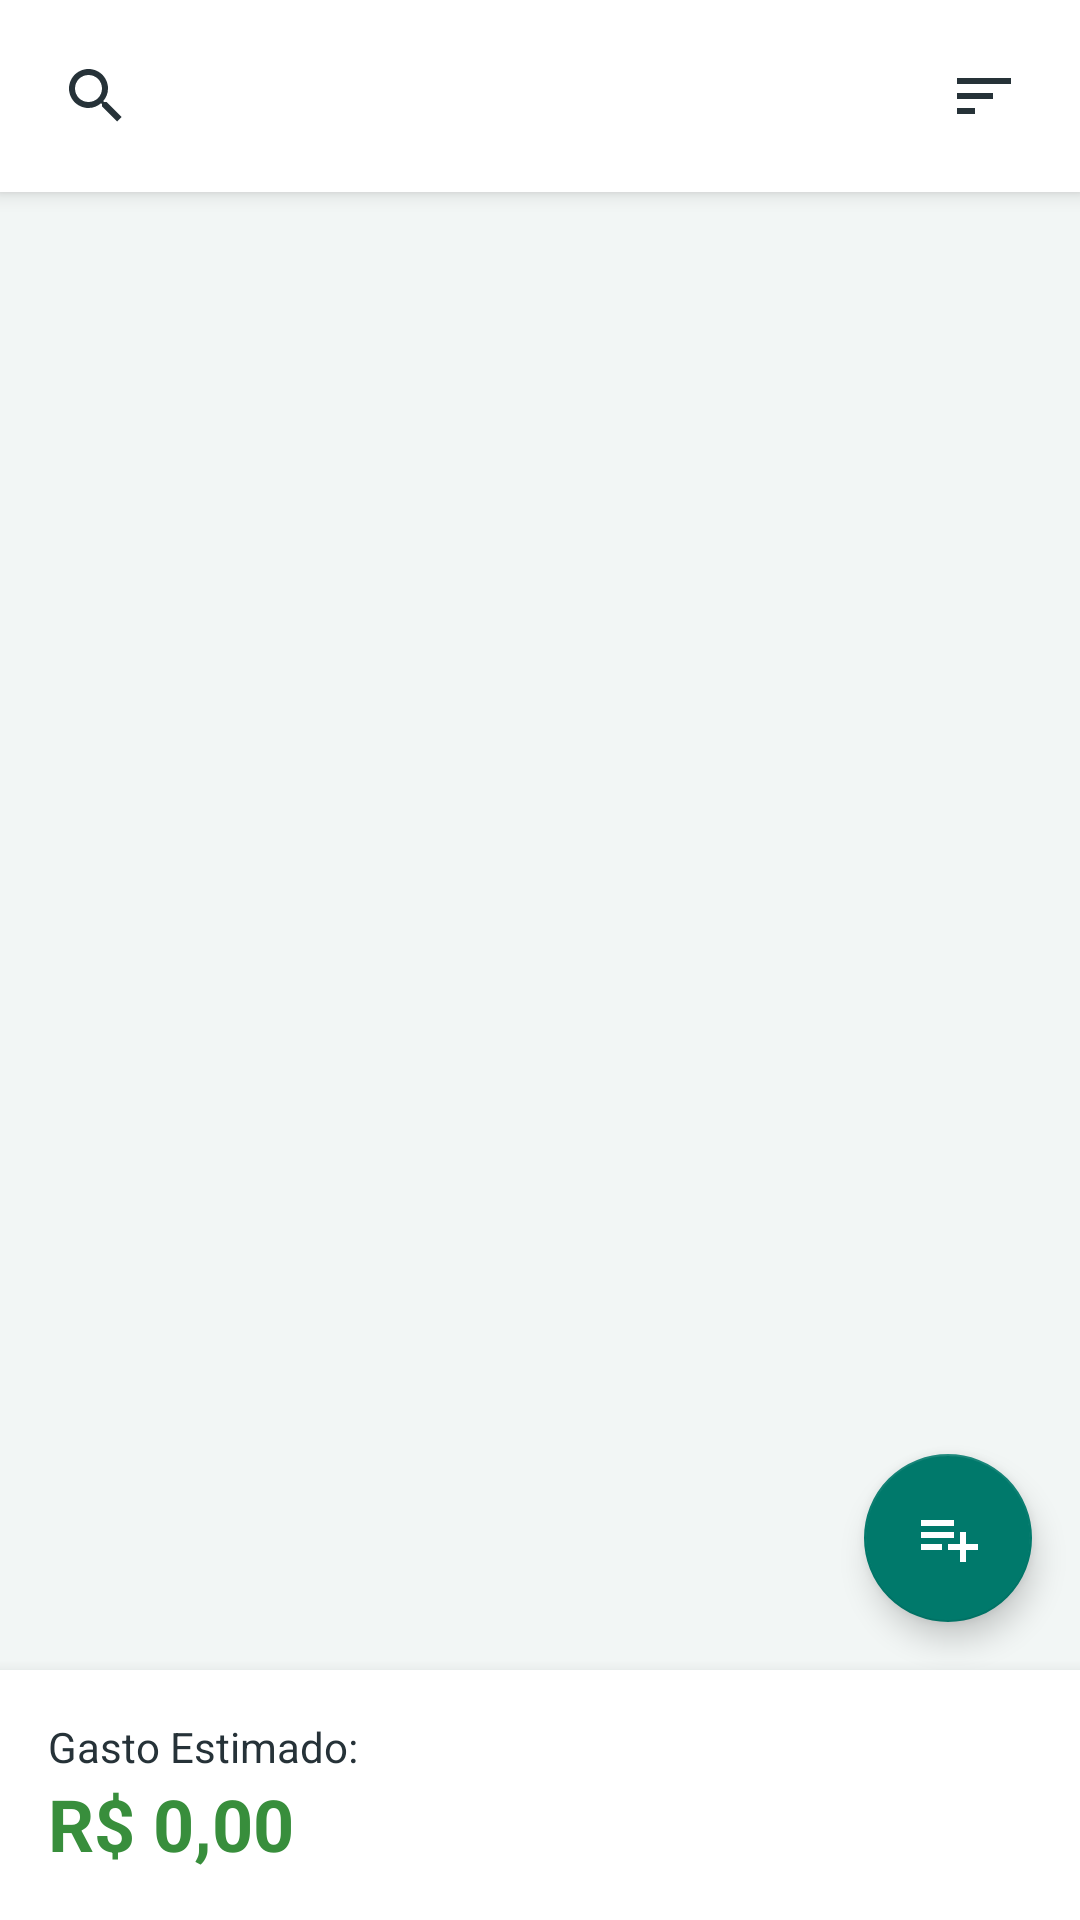

Icons on this 1080×1920 Android screen, each with the point to tap as (x=x, y=y):
Adicionar Item: (x=948, y=1538)
Mostrar opções: (x=984, y=96)
